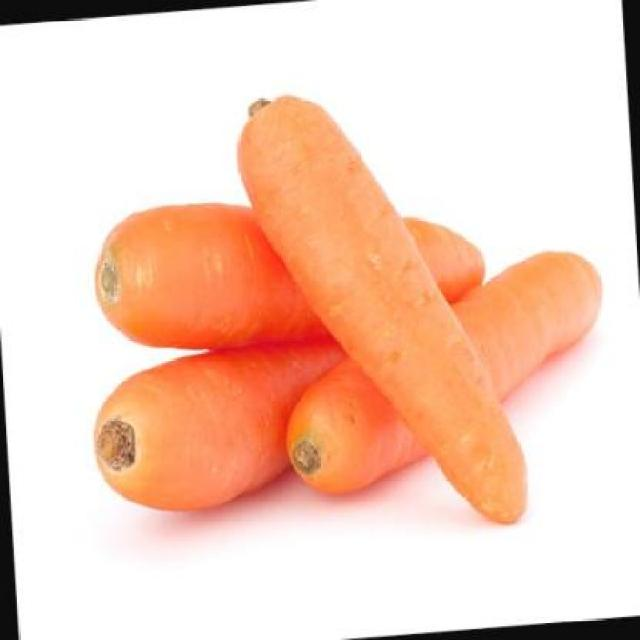carrot: (233, 75, 530, 543), (274, 246, 615, 499), (89, 178, 488, 348), (88, 332, 357, 518)
